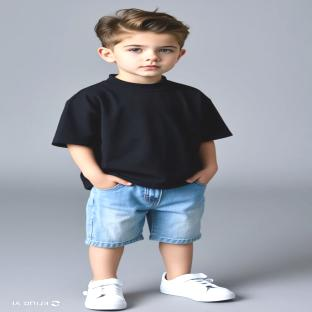Human: (53, 9, 235, 309)
